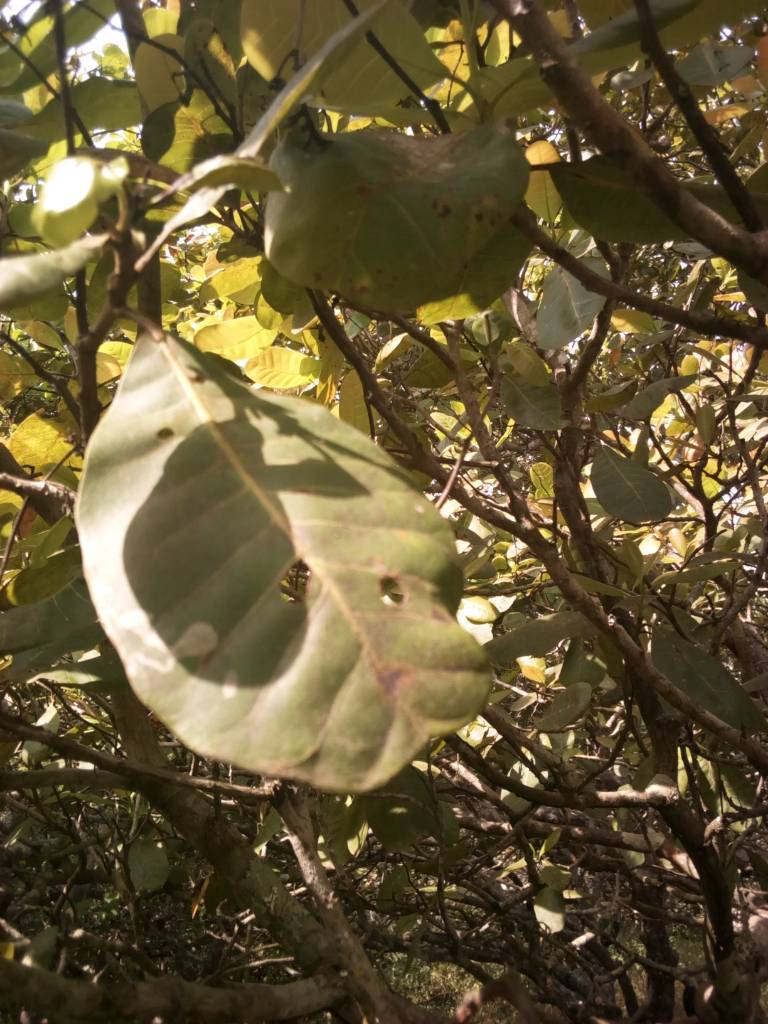Bactériose: (116, 328, 490, 792), (275, 110, 522, 313)
